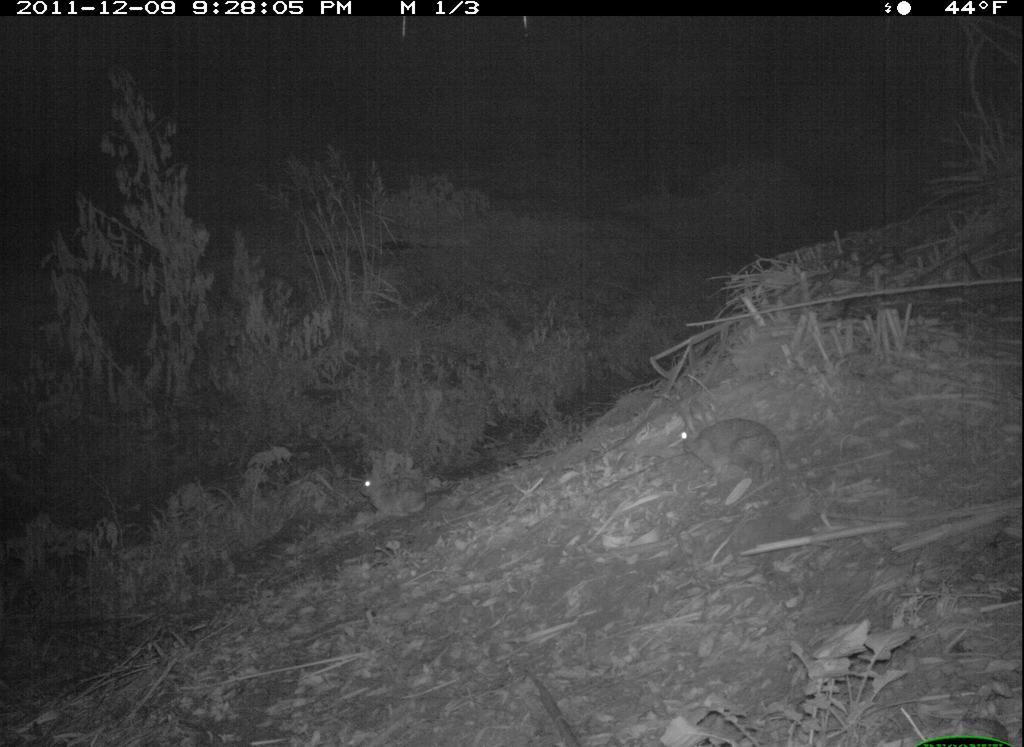rabbit: (662, 393, 789, 486), (340, 446, 431, 523)
